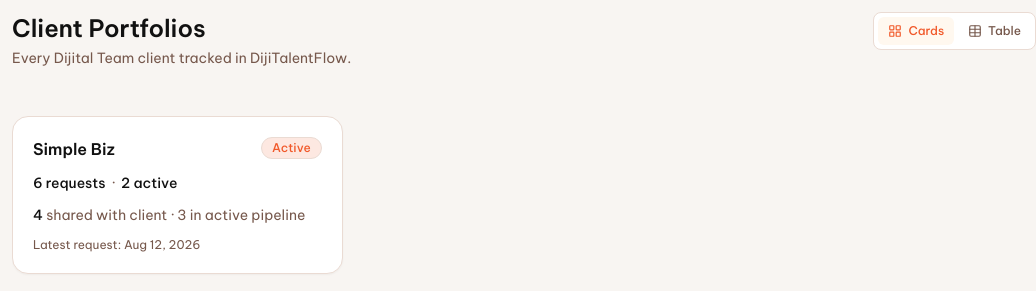
Test: ClientPortfoliosPage — card view + click-through › switches to table view and keeps the same click-through links
Expected: the text "Simple Biz" is shown, [33,137,115,161]
Click the button "Table". click: (995, 31)
box: [958,17,1031,45]
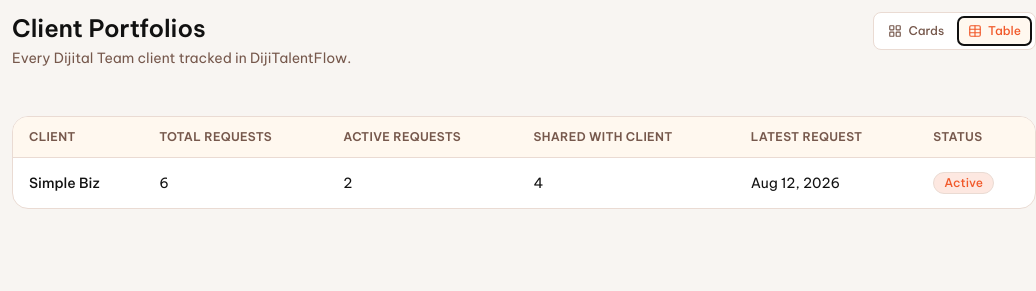
Expected: the column heading "Total Requests" is shown, [143,117,327,158]
Expected: the text "Simple Biz" is shown, [29,174,100,192]
